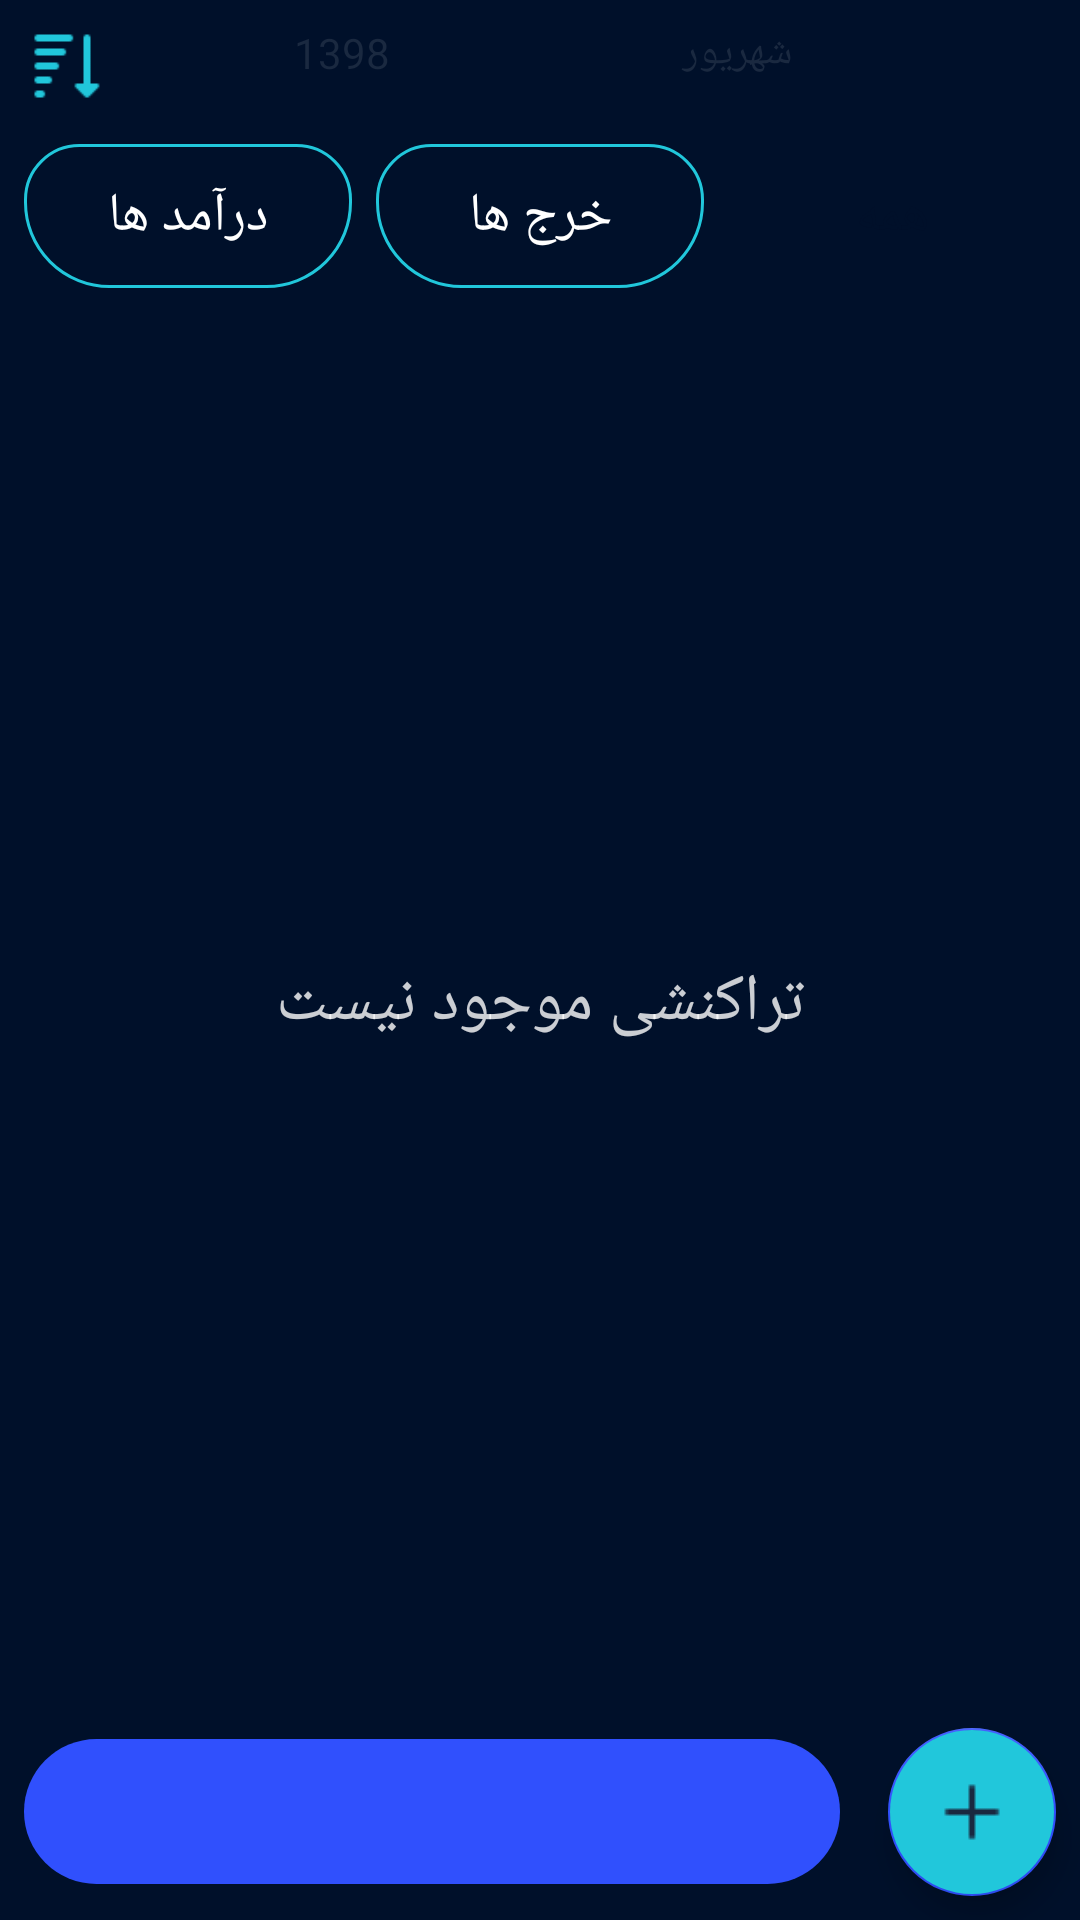

Where to tap for icons on this 1080x1920 app screen, as (x,y):
add: (972,1812)
arrangement: (67,66)
